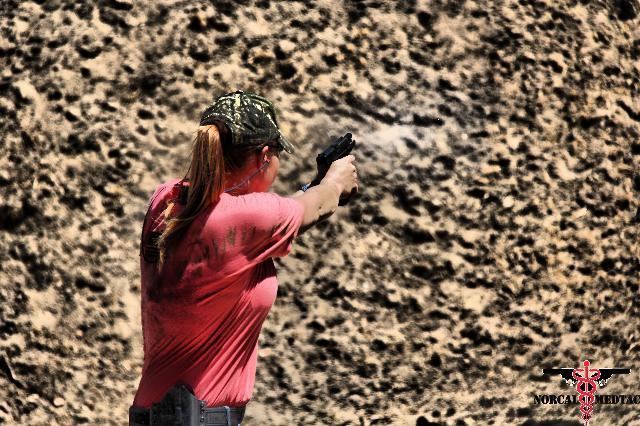pistol: (316, 130, 358, 208)
